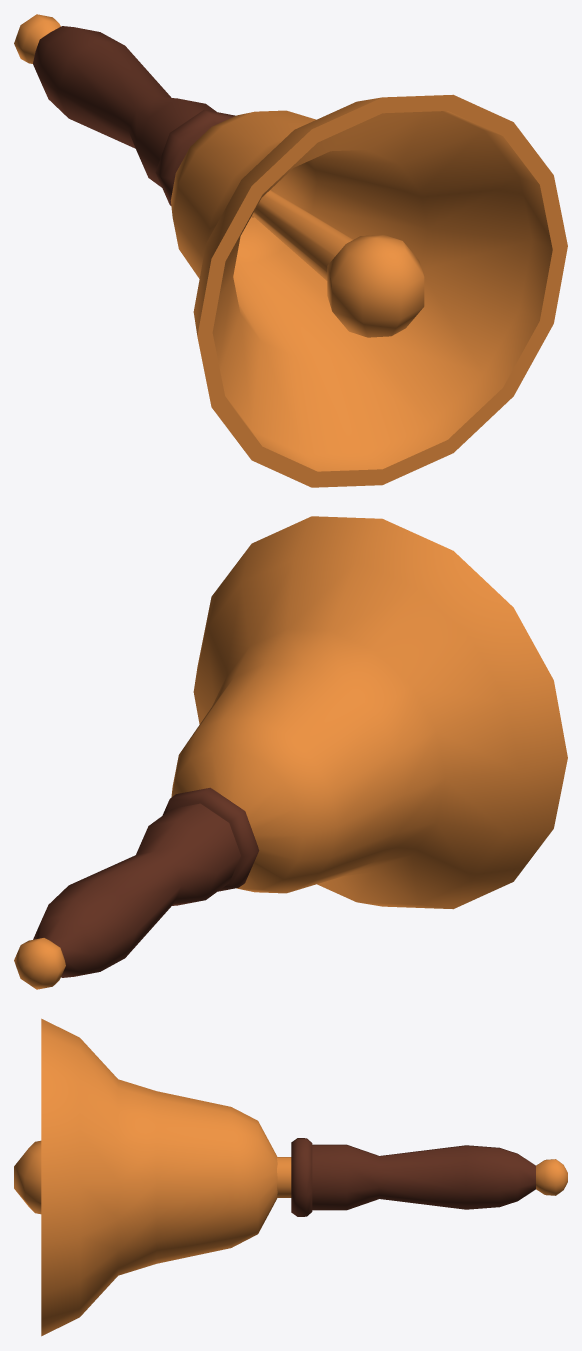
File: Bell_01.fbx
3 views of the same model, one above another, from view 1: azimuth 30°, elevation 25°; view 2: azimuth 150°, elevation 25°; view 3: azimuth 270°, elevation 25° (orthographic). The views are drawn at different scales.
Parts seen in each view (by area): view 1: Bell_01; view 2: Bell_01; view 3: Bell_01.
Boxes of the visible parts, x1,y1,x2,y2 form: Bell_01: (14,14,567,487); Bell_01: (14,516,567,989); Bell_01: (14,1018,567,1336).
Size of the model in its own units: 0.124 by 0.124 by 0.2157.
